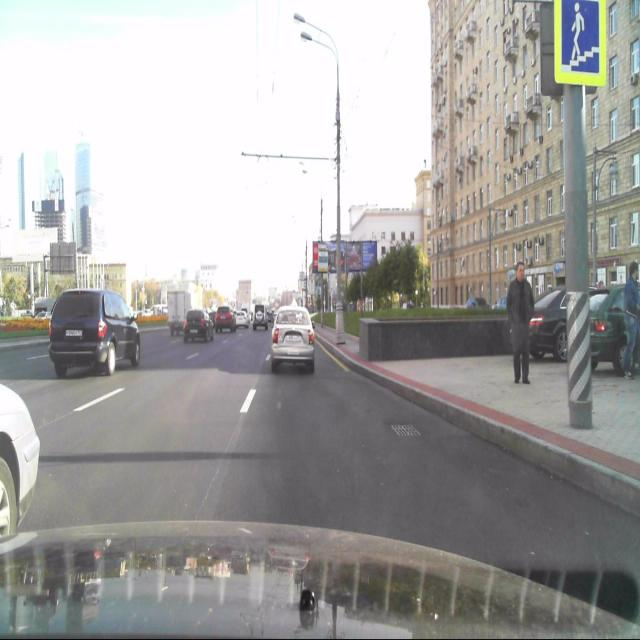road sign: (555, 0, 606, 87)
